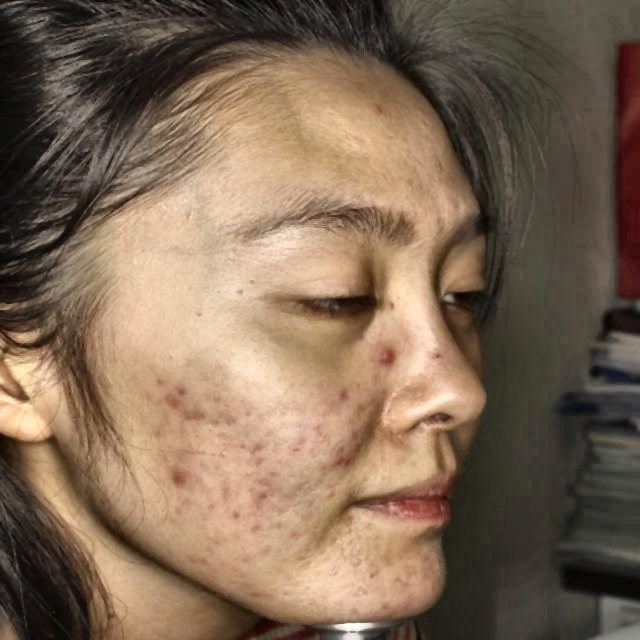pustule: (326, 437, 356, 476), (164, 458, 196, 493), (336, 377, 368, 410), (380, 343, 409, 376), (182, 396, 208, 426), (179, 548, 205, 572), (238, 581, 262, 606), (155, 386, 178, 408)
